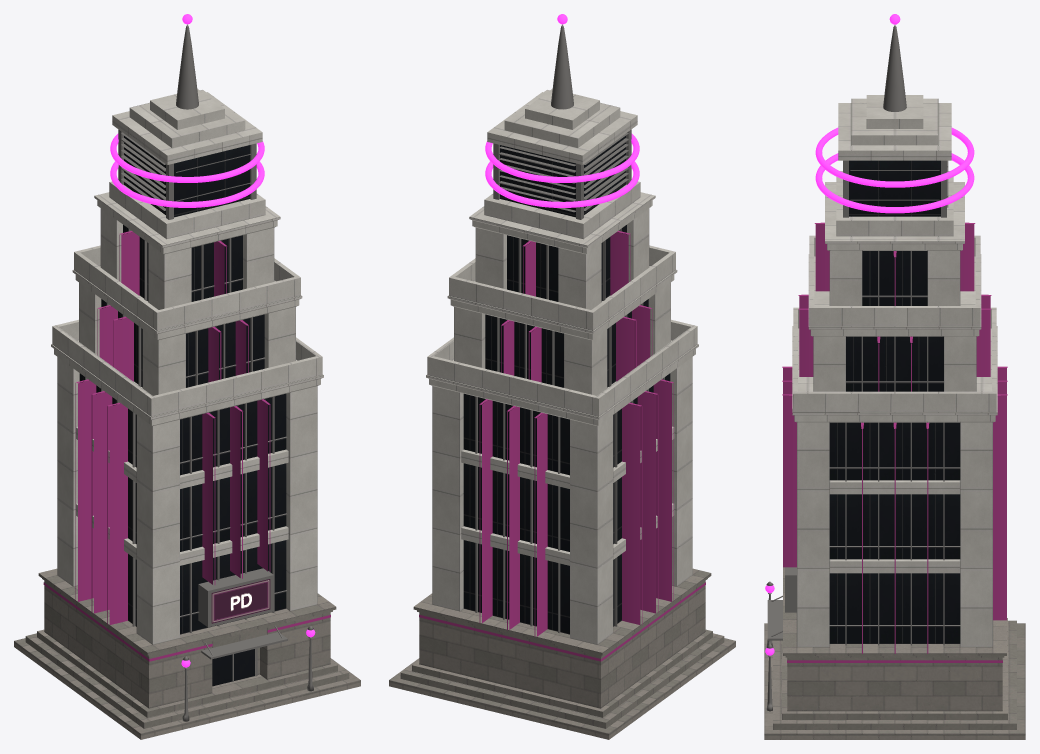
File: s35-parkinsons-dao.glb
3 views of the same model, side by side, from view 1: azimuth 30°, elevation 25°; view 2: azimuth 150°, elevation 25°; view 3: azimuth 270°, elevation 25° (orthographic). The views are drawn at different scales.
Visible parts, largest first — view 1: Landmark · Parkinsons DAO (Series 35); view 2: Landmark · Parkinsons DAO (Series 35); view 3: Landmark · Parkinsons DAO (Series 35).
Part boxes in pixels (<box>): Landmark · Parkinsons DAO (Series 35): <box>14,14,360,739</box>; Landmark · Parkinsons DAO (Series 35): <box>389,14,735,739</box>; Landmark · Parkinsons DAO (Series 35): <box>764,14,1025,739</box>.
Bounding box in the file's own units: 12 × 34 × 12.
7 materials, 4 textured.
